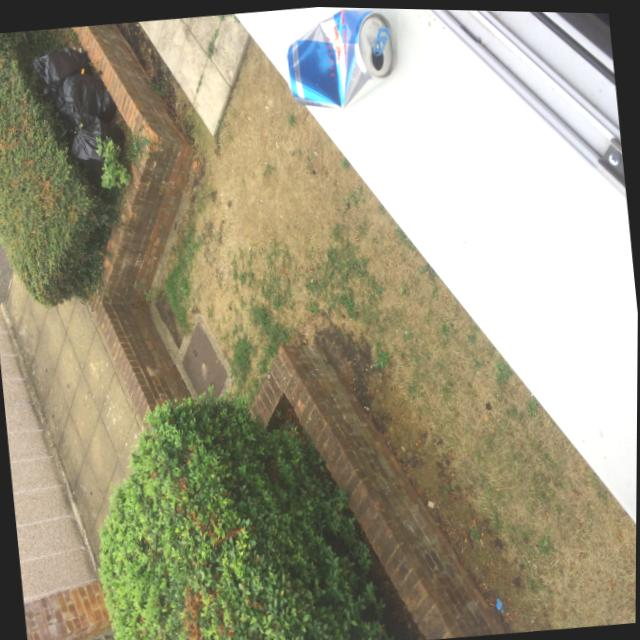Can-Metal: (270, 5, 408, 121)
